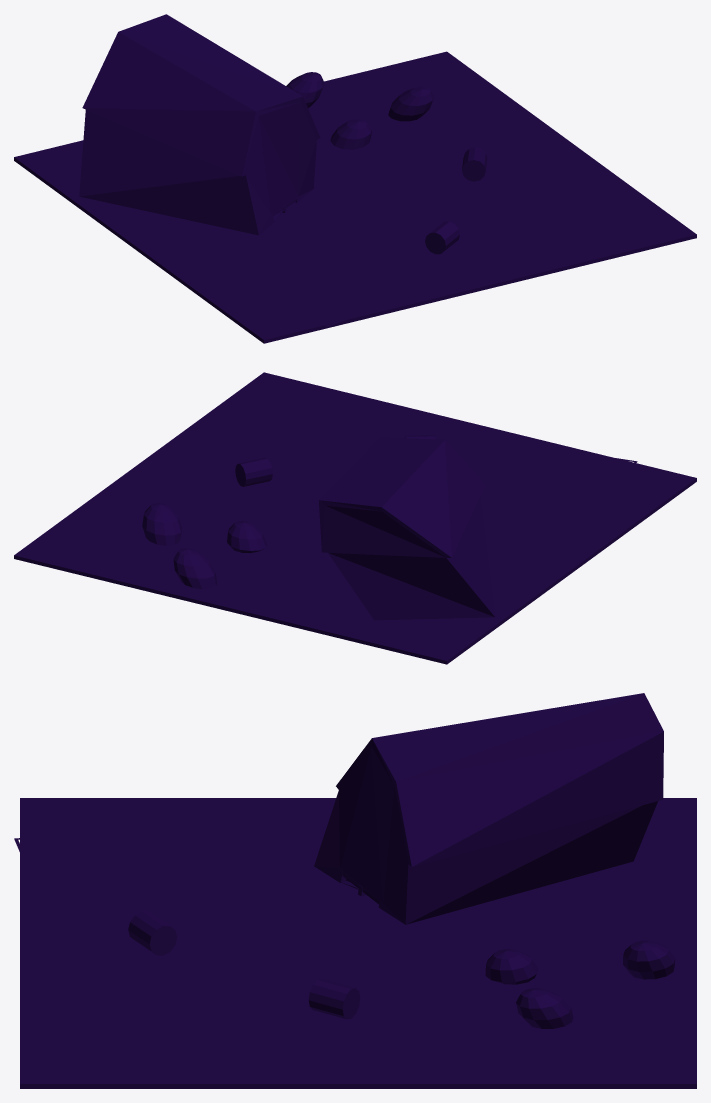
File: barn_oozed_c.FBX
3 views of the same model, one above another, from view 1: azimuth 30°, elevation 25°; view 2: azimuth 150°, elevation 25°; view 3: azimuth 270°, elevation 25° (orthographic). The views are drawn at different scales.
Visible parts, largest first — view 1: Layer:pasture, Layer:white, Layer:barn, Layer:greenery, Layer:wood; view 2: Layer:pasture, Layer:barn, Layer:white, Layer:greenery, Layer:wood; view 3: Layer:pasture, Layer:white, Layer:barn, Layer:greenery, Layer:wood.
Part boxes in pixels (left/top/right/bottom): Layer:pasture: left=14, top=51, right=696, bottom=343; Layer:white: left=82, top=14, right=320, bottom=223; Layer:barn: left=79, top=102, right=316, bottom=235; Layer:greenery: left=286, top=72, right=434, bottom=149; Layer:wood: left=149, top=237, right=561, bottom=326; Layer:pasture: left=14, top=372, right=696, bottom=664; Layer:barn: left=325, top=496, right=495, bottom=620; Layer:white: left=318, top=437, right=485, bottom=557; Layer:greenery: left=142, top=503, right=266, bottom=588; Layer:wood: left=348, top=417, right=637, bottom=571; Layer:pasture: left=20, top=798, right=696, bottom=1088; Layer:white: left=336, top=693, right=663, bottom=909; Layer:barn: left=314, top=746, right=657, bottom=924; Layer:greenery: left=485, top=940, right=675, bottom=1028; Layer:wood: left=14, top=814, right=330, bottom=1011.
Bounding box in the file's own units: 250 × 67.59 × 252.
